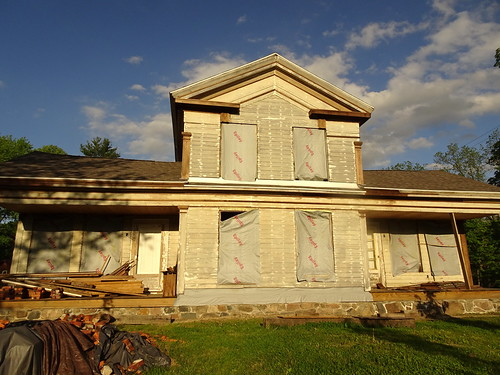building: (8, 62, 493, 310)
grass: (152, 316, 500, 375)
sky: (1, 1, 498, 115)
